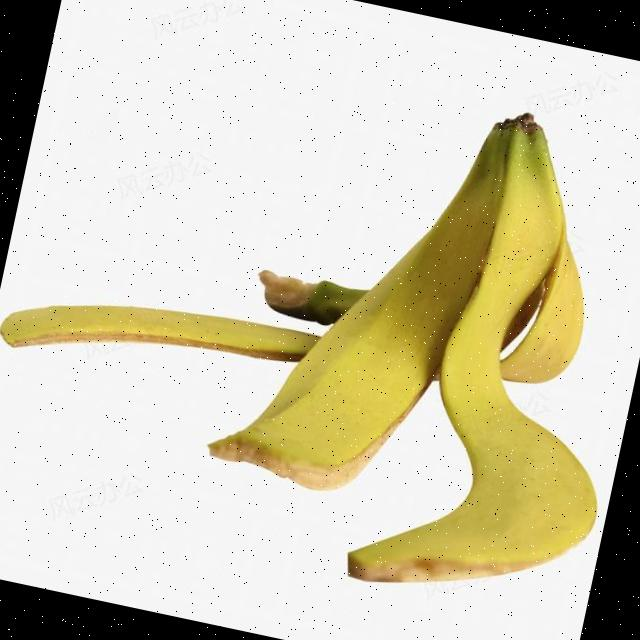banana-peel: (0, 12, 640, 624), (202, 61, 624, 538), (340, 95, 640, 626), (0, 266, 321, 409)
